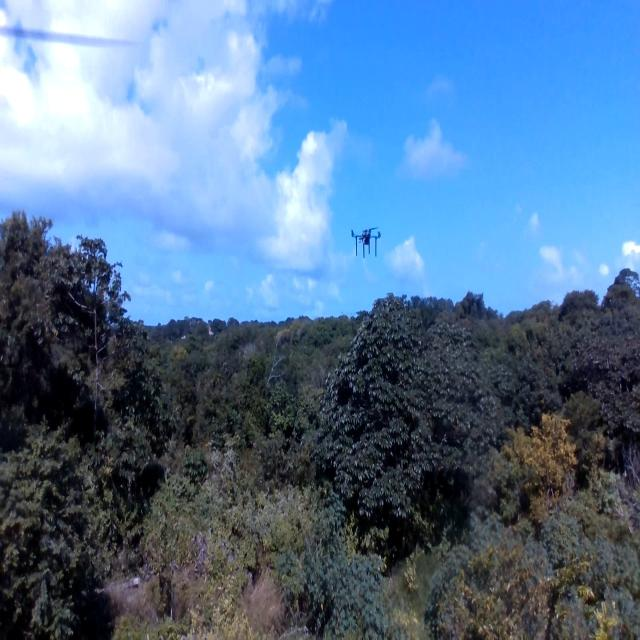-uav-: (350, 213, 387, 267)
